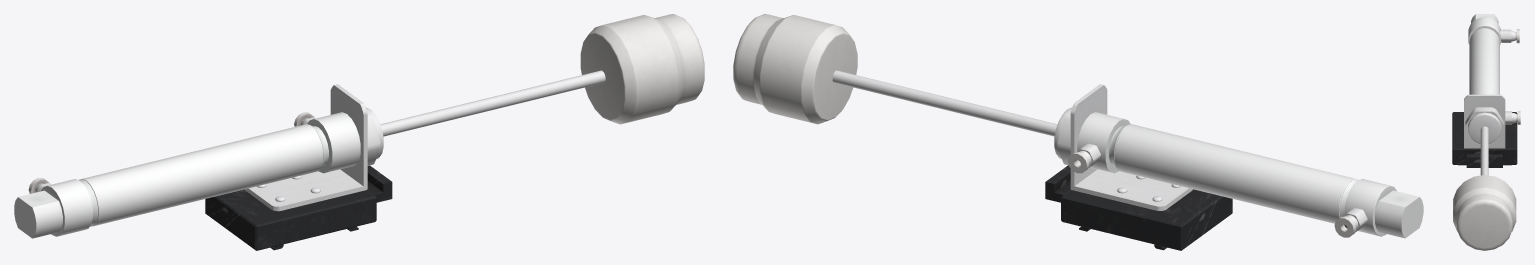
The model's file is 双作用单杆气缸.fbx.
3 views of the same model, side by side, from view 1: azimuth 30°, elevation 25°; view 2: azimuth 150°, elevation 25°; view 3: azimuth 270°, elevation 25° (orthographic). The views are drawn at different scales.
Parts seen in each view (by area): view 1: SZYDGQG01, SZYDGQG02, SZYDGQG04, SZYDGQG03; view 2: SZYDGQG01, SZYDGQG02, SZYDGQG04, SZYDGQG03; view 3: SZYDGQG01, SZYDGQG02, SZYDGQG04, SZYDGQG03.
Part boxes in pixels (x1=…): SZYDGQG01: x1=14, y1=84, x2=383, y2=238; SZYDGQG02: x1=580, y1=14, x2=704, y2=124; SZYDGQG04: x1=205, y1=165, x2=392, y2=250; SZYDGQG03: x1=380, y1=70, x2=605, y2=136; SZYDGQG01: x1=1054, y1=84, x2=1423, y2=238; SZYDGQG02: x1=733, y1=14, x2=857, y2=124; SZYDGQG04: x1=1045, y1=165, x2=1232, y2=250; SZYDGQG03: x1=832, y1=70, x2=1057, y2=136; SZYDGQG01: x1=1464, y1=14, x2=1520, y2=148; SZYDGQG02: x1=1453, y1=175, x2=1516, y2=250; SZYDGQG04: x1=1452, y1=112, x2=1517, y2=167; SZYDGQG03: x1=1480, y1=126, x2=1488, y2=175.
Bounding box in the file's own units: 40.15 × 6.91 × 5.7.
